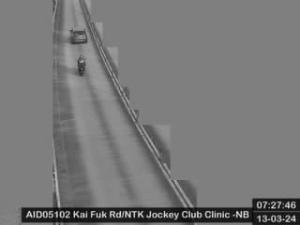motorbike: (77, 56, 86, 76)
vehicle: (70, 27, 87, 43)
